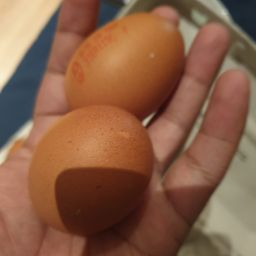Eggs: (20, 103, 174, 248), (28, 10, 189, 113)
